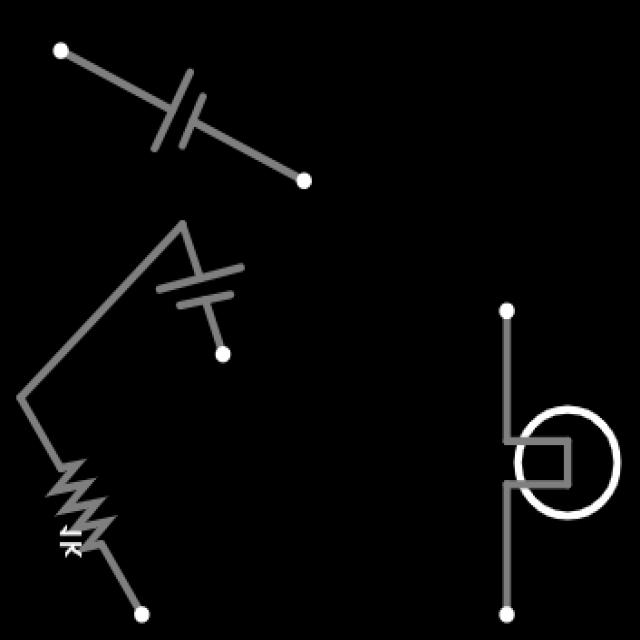Battery: (148, 65, 208, 151), (154, 264, 246, 307)
Light Bulb: (517, 404, 622, 521)
Resistor: (46, 457, 116, 550)
Wire: (12, 217, 186, 404), (54, 43, 171, 112), (196, 120, 312, 183), (15, 393, 65, 472), (99, 546, 149, 622), (494, 481, 519, 624), (497, 301, 517, 436), (203, 305, 229, 365), (178, 220, 202, 273)
